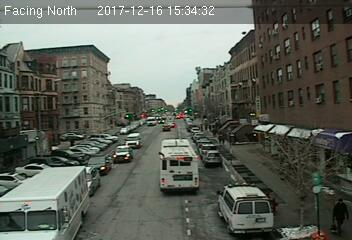bus: (159, 140, 202, 196)
car: (87, 155, 112, 173), (112, 146, 134, 162), (203, 150, 221, 164)
pedestrian: (329, 199, 348, 239)
police: (218, 180, 275, 237)
truck: (1, 165, 93, 240)
